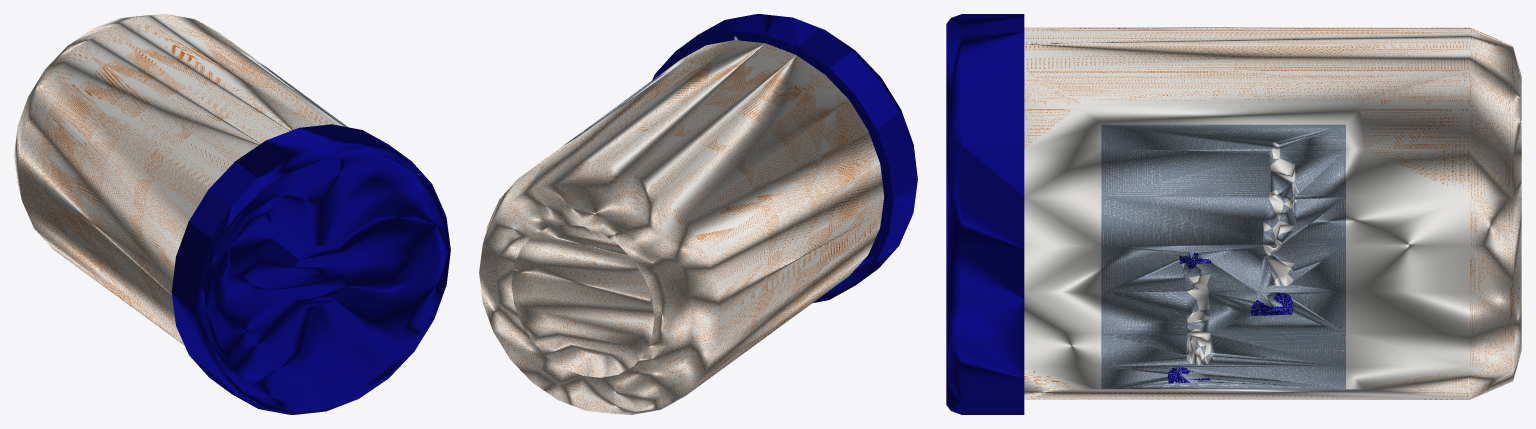
Rendered from model_align.obj.
3 renders of one model, left to right at view 1: azimuth 30°, elevation 25°; view 2: azimuth 150°, elevation 25°; view 3: azimuth 270°, elevation 25°, orthographic. The views are drawn at different scales.
Bounding box in the file's own units: 0.1043 × 0.105 × 0.149.
